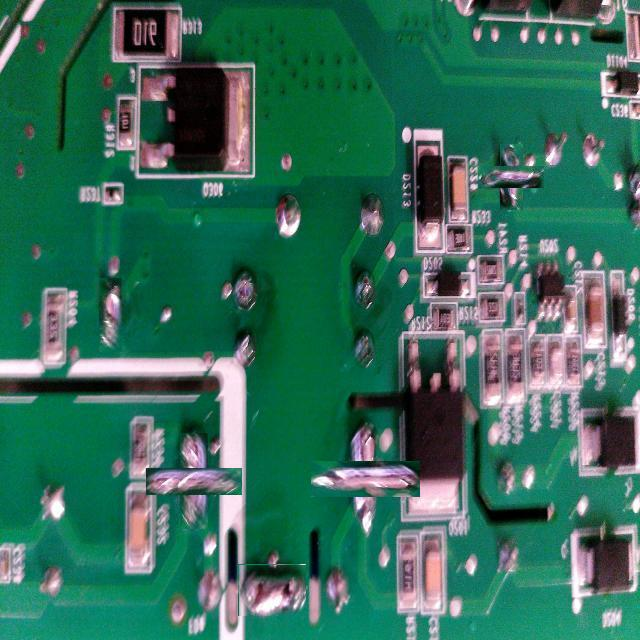Short_circuit: (328, 443, 402, 515), (163, 450, 225, 512), (238, 564, 306, 616), (489, 155, 534, 199), (100, 278, 124, 352)
